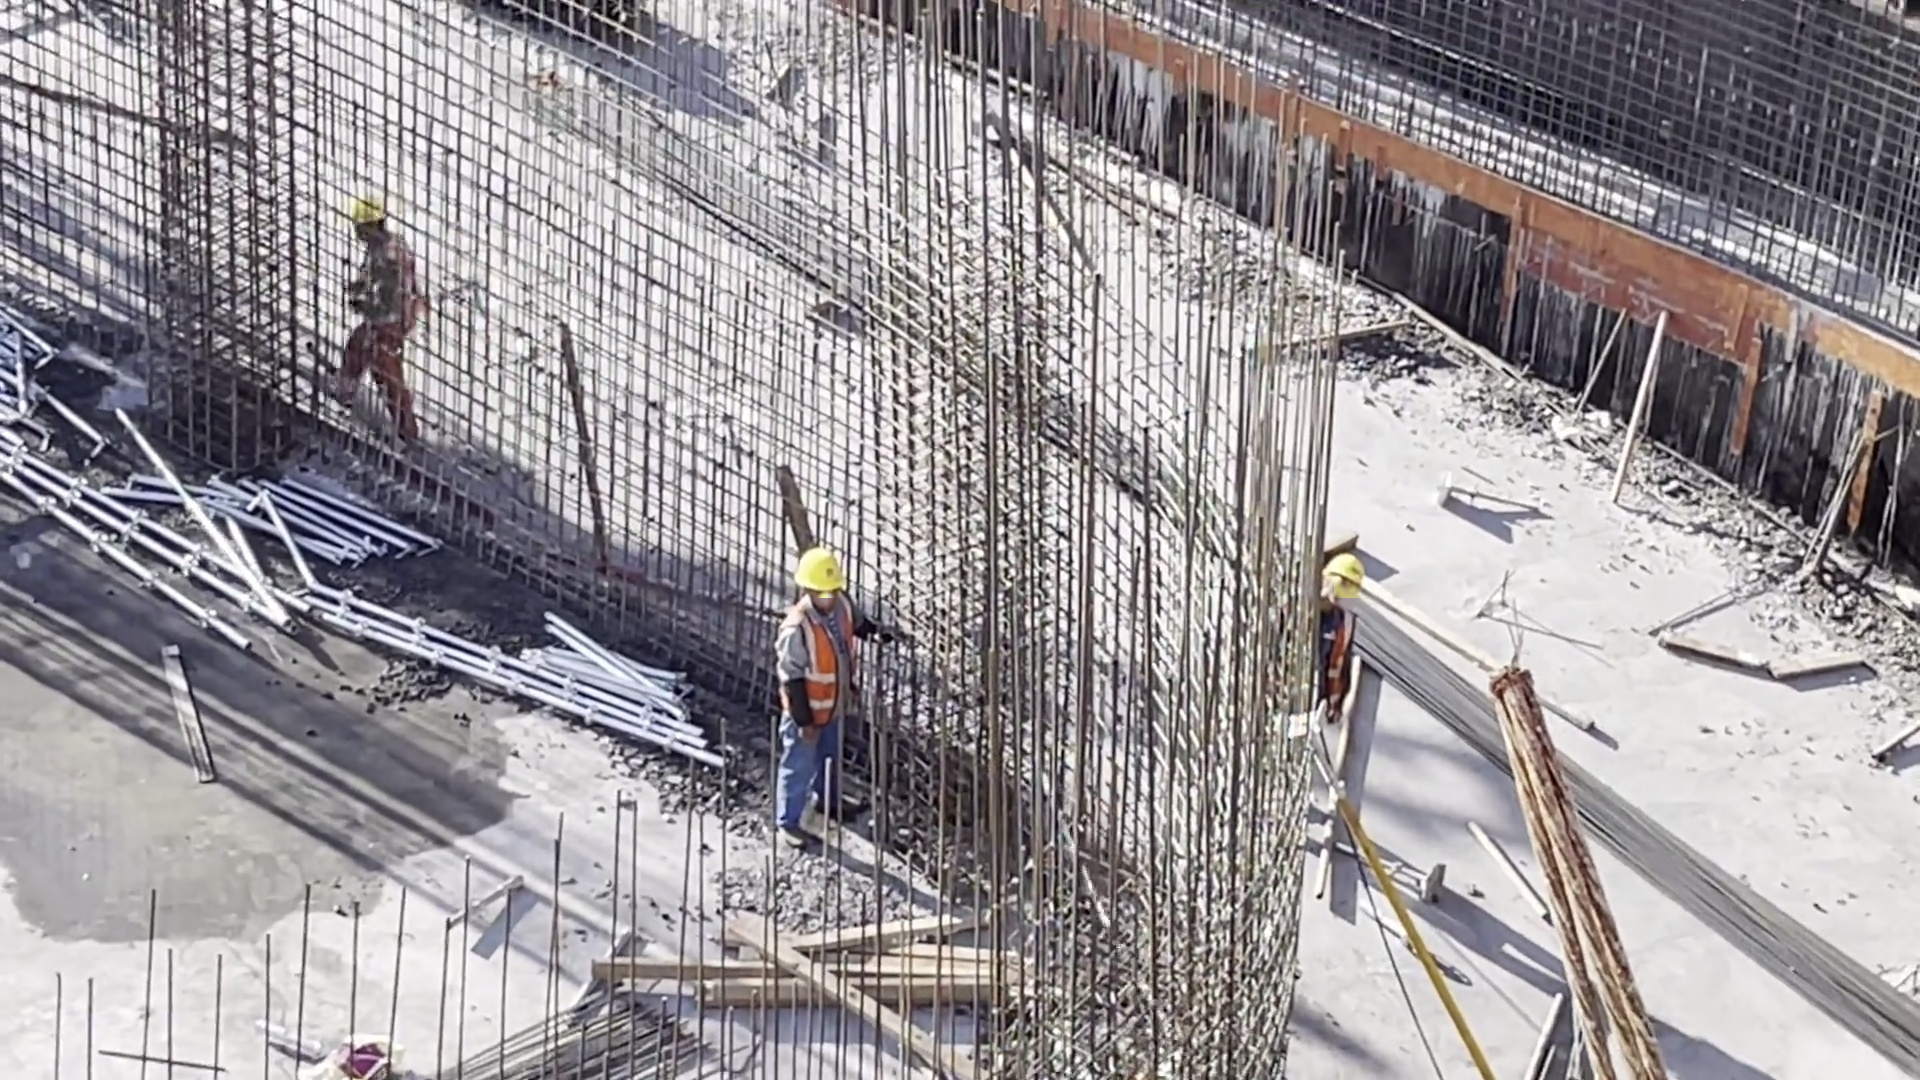helmet: (789, 545, 855, 598), (1333, 543, 1367, 606), (348, 197, 396, 226)
person: (770, 546, 884, 838), (344, 204, 451, 445), (1297, 560, 1386, 769)
rebar: (1359, 607, 1920, 1041)
scaffold: (467, 635, 775, 813), (153, 459, 438, 633)
vest: (351, 237, 444, 354), (780, 613, 867, 722), (1301, 612, 1357, 732)
